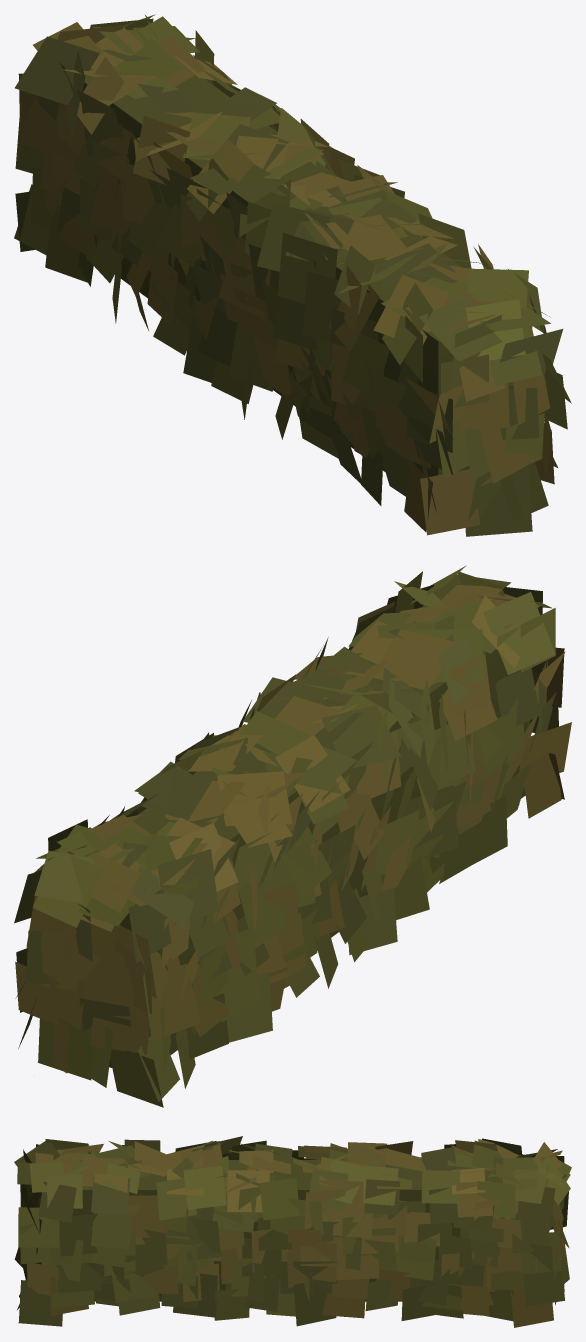
File: hedge.privet.autumn.glb
3 views of the same model, one above another, from view 1: azimuth 30°, elevation 25°; view 2: azimuth 150°, elevation 25°; view 3: azimuth 270°, elevation 25° (orthographic). The views are drawn at different scales.
Visible parts, largest first — view 1: hedge_privet_autumn; view 2: hedge_privet_autumn; view 3: hedge_privet_autumn.
Boxes of the visible parts, x1,y1,x2,y2 form: hedge_privet_autumn: (14,14,571,536); hedge_privet_autumn: (14,565,571,1107); hedge_privet_autumn: (14,1136,571,1327).
Size of what is drawn, in the model's own units: 1.2 by 1.52 by 5.17.
